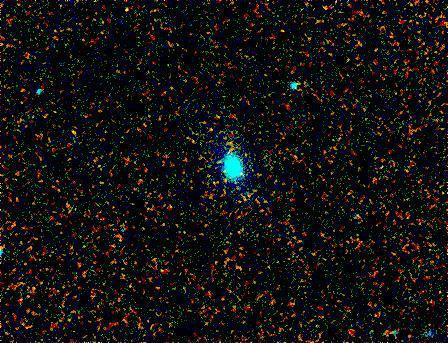star: (111, 0, 141, 27)
